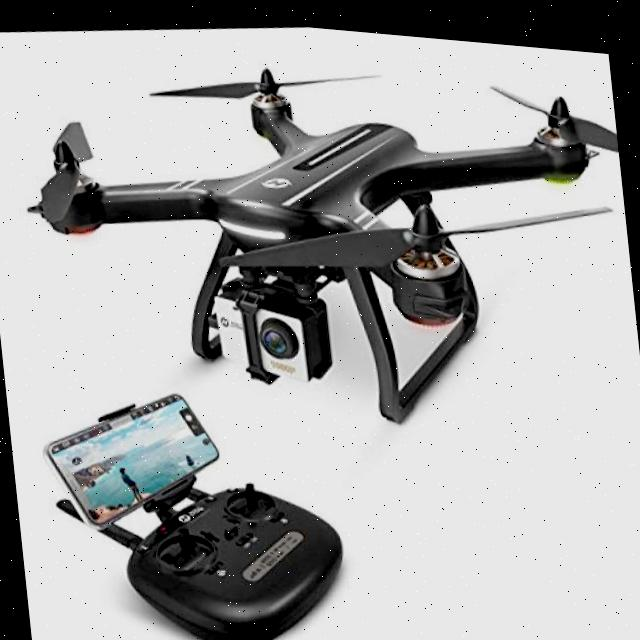drone: (0, 0, 640, 440)
